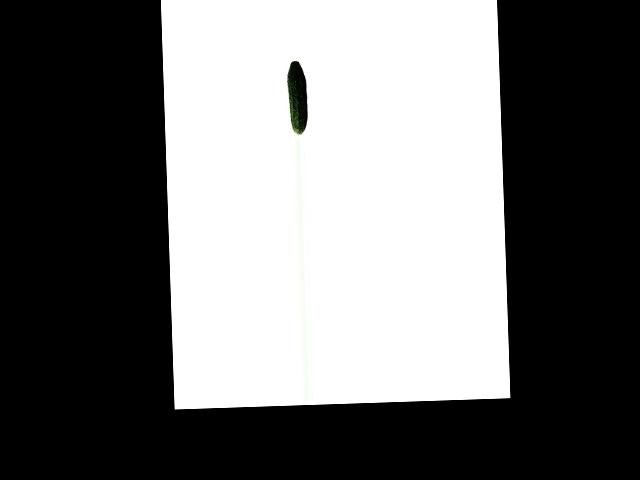cucumber: (287, 60, 308, 134)
